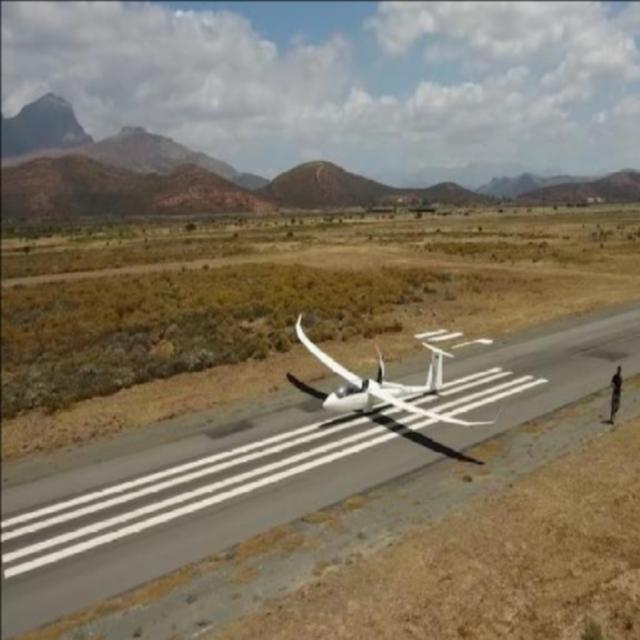plane: (294, 310, 504, 432)
